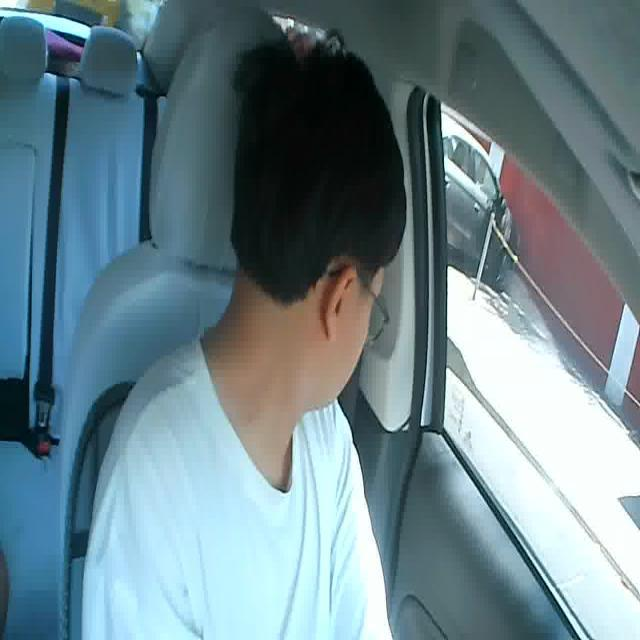Inattentive: (226, 30, 410, 416)
